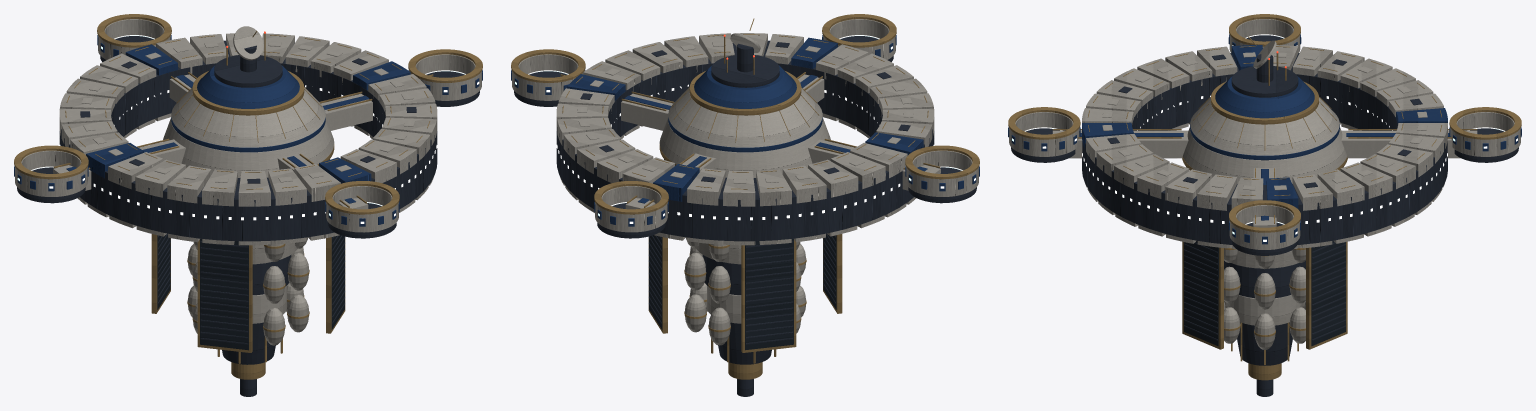
File: crown_haven_corporate.glb
3 renders of one model, left to right at view 1: azimuth 30°, elevation 25°; view 2: azimuth 150°, elevation 25°; view 3: azimuth 270°, elevation 25°, orthographic. The views are drawn at different scales.
Visible parts, largest first — view 1: Stationary_Body_Corporate_Hull, Stationary_Body_Corporate_Frame, Stationary_Body_Corporate_Trim, Stationary_Body_Corporate_Accent, Stationary_Body_Corporate_Dark, Radar_Rotor_Corporate_Hull, Stationary_Body_Corporate_Window; view 2: Stationary_Body_Corporate_Hull, Stationary_Body_Corporate_Frame, Stationary_Body_Corporate_Trim, Stationary_Body_Corporate_Accent, Stationary_Body_Corporate_Dark, Stationary_Body_Corporate_Window; view 3: Stationary_Body_Corporate_Hull, Stationary_Body_Corporate_Frame, Stationary_Body_Corporate_Trim, Stationary_Body_Corporate_Accent, Stationary_Body_Corporate_Dark, Stationary_Body_Corporate_Window.
Boxes of the visible parts, x1,y1,x2,y2 form: Stationary_Body_Corporate_Hull: (15,19,481,345); Stationary_Body_Corporate_Frame: (17,36,479,396); Stationary_Body_Corporate_Trim: (14,14,482,379); Stationary_Body_Corporate_Accent: (14,35,482,226); Stationary_Body_Corporate_Dark: (157,234,344,350); Radar_Rotor_Corporate_Hull: (233,26,263,60); Stationary_Body_Corporate_Window: (59,85,437,220); Stationary_Body_Corporate_Hull: (512,19,978,345); Stationary_Body_Corporate_Frame: (514,36,976,396); Stationary_Body_Corporate_Trim: (511,14,979,379); Stationary_Body_Corporate_Accent: (511,35,979,226); Stationary_Body_Corporate_Dark: (649,234,836,350); Stationary_Body_Corporate_Window: (556,84,934,220); Stationary_Body_Corporate_Hull: (1009,19,1520,349); Stationary_Body_Corporate_Frame: (1011,35,1518,396); Stationary_Body_Corporate_Trim: (1008,14,1521,380); Stationary_Body_Corporate_Accent: (1008,34,1521,244); Stationary_Body_Corporate_Dark: (1184,240,1345,346); Stationary_Body_Corporate_Window: (1082,95,1447,223).
Size of the model in its own units: 107 by 82 by 107.
Materials: 8 (5 with a texture image).
